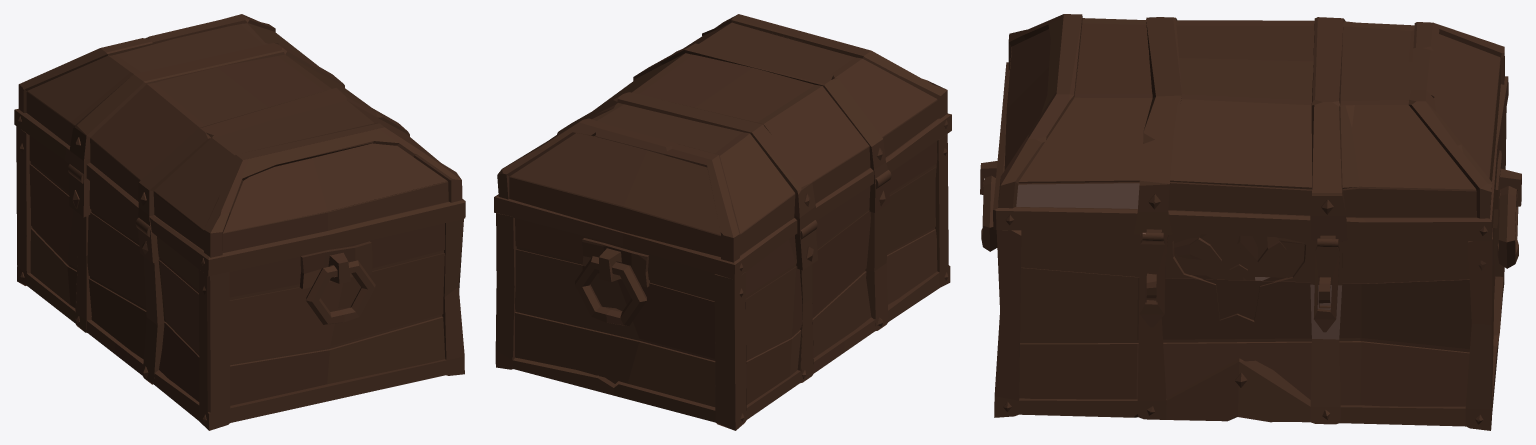
File: pirateChest1.fbx
3 renders of one model, left to right at view 1: azimuth 30°, elevation 25°; view 2: azimuth 150°, elevation 25°; view 3: azimuth 270°, elevation 25°, orthographic. The views are drawn at different scales.
Visible parts, largest first — view 1: polySurface147, polySurface124, polySurface125, polySurface149, polySurface150, polySurface153, polySurface152, polySurface151, polySurface141, polySurface139, polySurface140; view 2: polySurface147, polySurface124, polySurface125, polySurface149, polySurface151, polySurface153, polySurface152, polySurface150, polySurface144, polySurface142, polySurface143; view 3: polySurface147, polySurface124, polySurface125, polySurface149, polySurface153, polySurface152, polySurface150, polySurface151, polySurface160, polySurface146, polySurface148, polySurface144 (+2 smaller).
Part boxes in pixels (x1,y1,x2,y2): polySurface147: (26,23,448,252); polySurface124: (29,136,446,405); polySurface125: (16,126,464,430); polySurface149: (14,109,465,276); polySurface150: (204,122,462,257); polySurface153: (69,43,344,217); polySurface152: (138,87,409,262); polySurface151: (18,14,275,112); polySurface141: (306,260,375,324); polySurface139: (300,241,372,289); polySurface140: (328,252,350,283); polySurface147: (509,22,937,256); polySurface124: (512,141,937,406); polySurface125: (495,134,950,430); polySurface149: (494,113,951,279); polySurface151: (497,118,740,262); polySurface153: (557,92,818,270); polySurface152: (633,43,889,212); polySurface150: (702,14,947,118); polySurface144: (575,256,646,326); polySurface142: (582,238,649,287); polySurface143: (599,248,622,281); polySurface147: (1004,18,1500,217); polySurface124: (1019,149,1499,406); polySurface125: (994,108,1506,430); polySurface149: (993,62,1508,240); polySurface153: (1310,17,1347,241); polySurface152: (1133,17,1181,235); polySurface150: (998,14,1082,208); polySurface151: (1408,22,1504,218); polySurface160: (1139,232,1165,327); polySurface146: (1172,234,1305,321); polySurface148: (1314,238,1339,332); polySurface144: (1497,186,1518,268).
Size of the model in its own units: 5.33 by 4.55 by 7.51.
